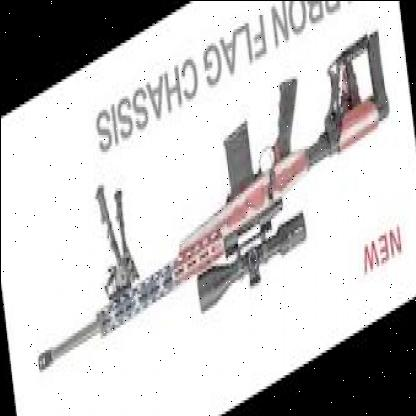rifle: (23, 26, 399, 380)
